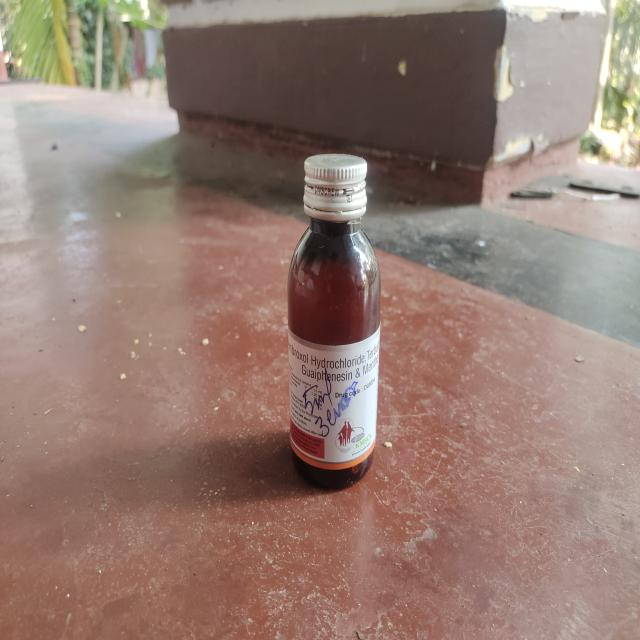plastic: (282, 152, 380, 486)
